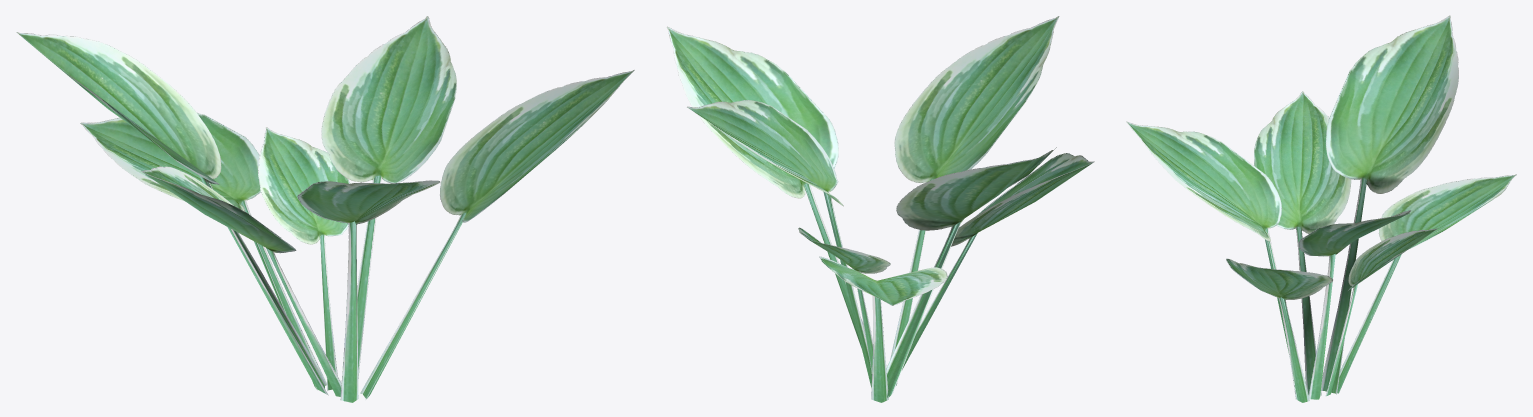
Rendered from plant_small_wg_03P.fbx.
3 renders of one model, left to right at view 1: azimuth 30°, elevation 25°; view 2: azimuth 150°, elevation 25°; view 3: azimuth 270°, elevation 25°, orthographic. The views are drawn at different scales.
Parts seen in each view (by area): view 1: plant_small_wg_03P; view 2: plant_small_wg_03P; view 3: plant_small_wg_03P.
Part boxes in pixels (left/top/right/bottom): plant_small_wg_03P: left=16, top=16, right=634, bottom=402; plant_small_wg_03P: left=667, top=16, right=1094, bottom=402; plant_small_wg_03P: left=1126, top=15, right=1516, bottom=402.
Bounding box in the file's own units: 68.4 × 46.87 × 58.3.
